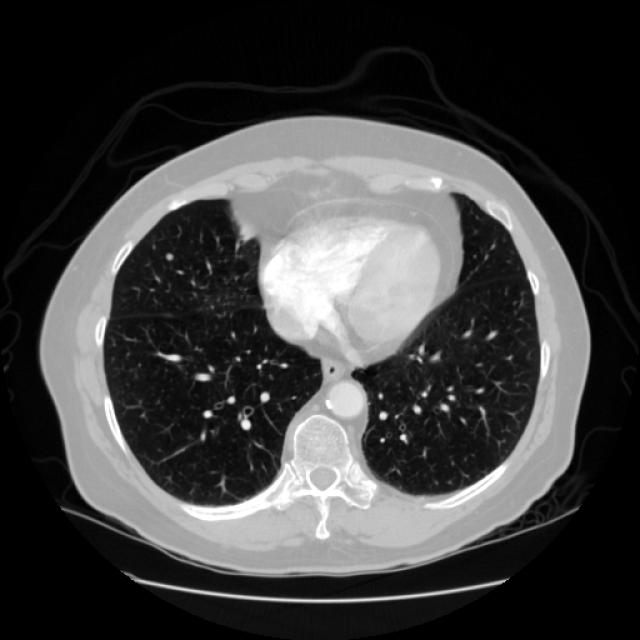nodule: (158, 245, 180, 267)
